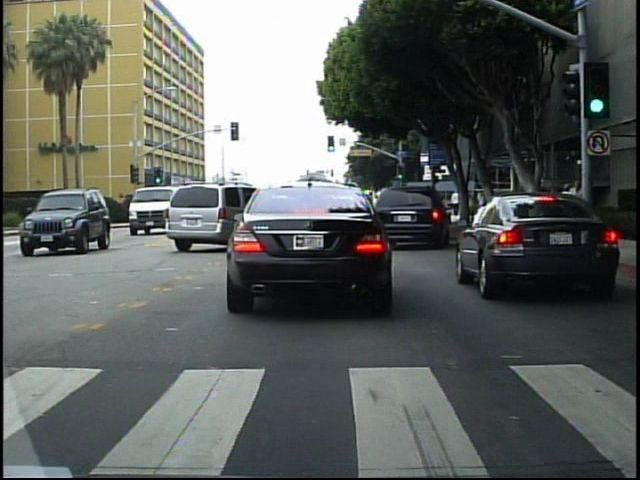person: (571, 174, 589, 237), (450, 187, 460, 218)
